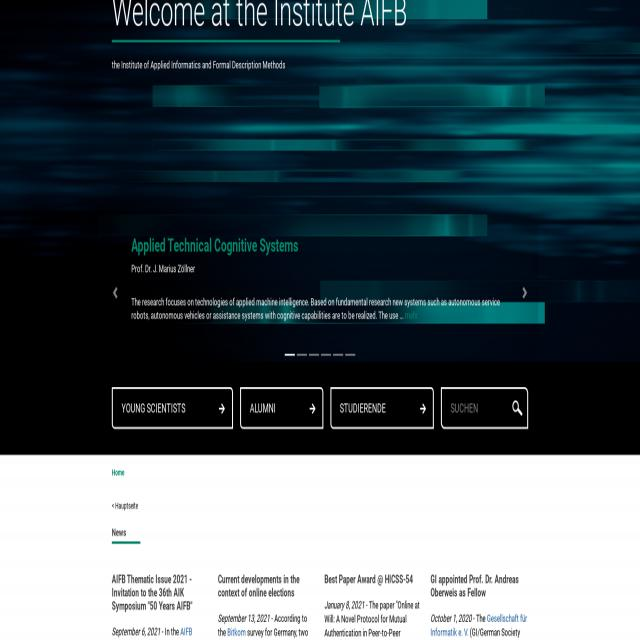button: (111, 387, 232, 429), (330, 387, 434, 429), (512, 224, 538, 362), (102, 224, 128, 362), (240, 387, 324, 429), (512, 397, 522, 419), (308, 352, 320, 358), (284, 352, 296, 358), (344, 352, 356, 358), (296, 352, 307, 358), (321, 352, 332, 358), (332, 352, 343, 358)
field: (441, 387, 528, 429)
